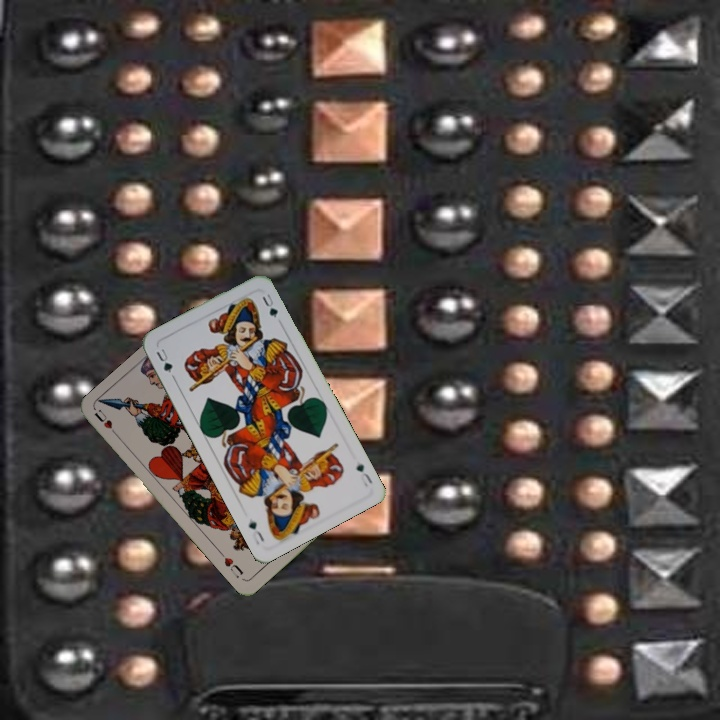GU: (152, 344, 177, 381), (352, 459, 375, 489)
HU: (90, 405, 122, 440)
